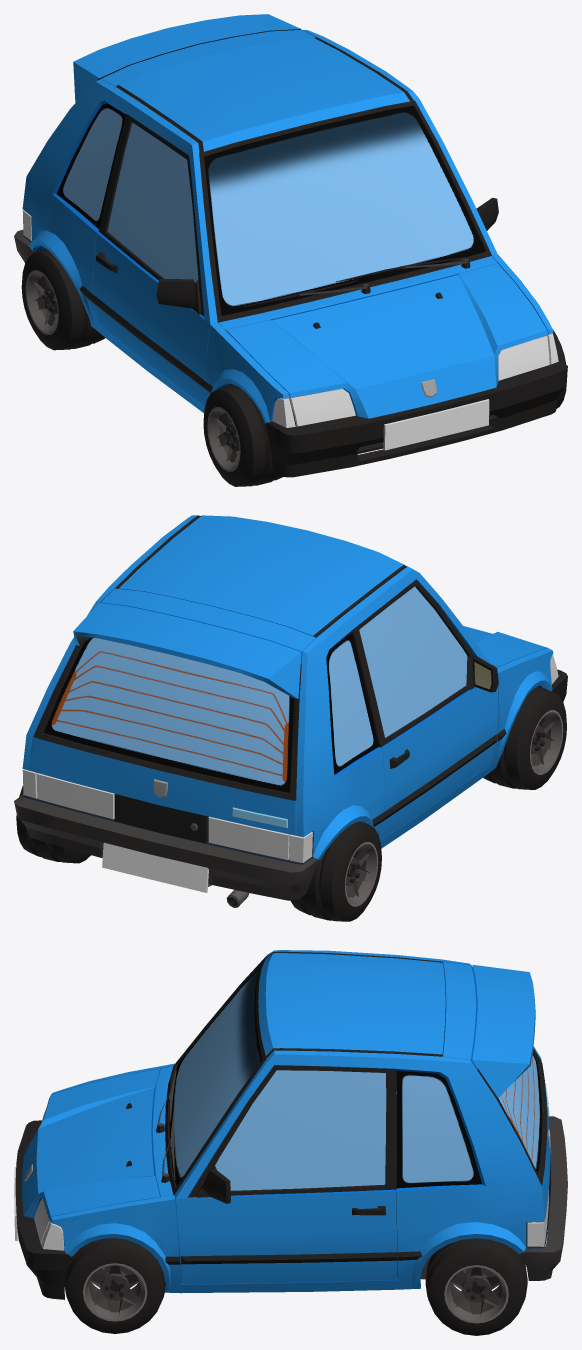
The model's file is carrinho.fbx.
3 views of the same model, one above another, from view 1: azimuth 30°, elevation 25°; view 2: azimuth 150°, elevation 25°; view 3: azimuth 270°, elevation 25° (orthographic). The views are drawn at different scales.
Visible parts, largest first — view 1: Body, Bonet, Doors_R, Bumper_F, Bootlid, Wheel_FR, Wheel_RR, Fender_FR, Headlight_FR, Headlight_FL, WindshieldWipers, Fender_FL; view 2: Bootlid, Body, Doors_R, Bumper_R, Wheel_RR, Wheel_FR, Fender_FR, Lights_RR, Lights_RL, Bonet, Wheel_RL, Assymetry_1; view 3: Body, Doors_L, Bonet, Bootlid, Wheel_RL, Wheel_FL, Fender_FL, Bumper_F, Bumper_R, WindshieldWipers, Lights_RL, TurnSignal_FL.
Part boxes in pixels (x1,y1,x2,y2): Body: (22, 30, 497, 413); Bonet: (226, 263, 548, 418); Doors_R: (92, 114, 210, 406); Bumper_F: (265, 358, 567, 477); Bootlid: (73, 14, 315, 102); Wheel_FR: (203, 383, 295, 486); Wheel_RR: (21, 248, 105, 350); Fender_FR: (204, 322, 289, 423); Headlight_FR: (290, 388, 355, 426); Headlight_FL: (498, 335, 549, 380); WindshieldWipers: (243, 257, 470, 307); Fender_FL: (492, 254, 553, 334); Bootlid: (29, 588, 315, 843); Body: (22, 515, 497, 864); Doors_R: (352, 580, 498, 840); Bumper_R: (14, 794, 318, 900); Wheel_RR: (290, 821, 381, 921); Wheel_FR: (483, 686, 566, 789); Fender_FR: (487, 648, 553, 774); Lights_RR: (208, 816, 312, 862); Lights_RL: (22, 769, 114, 819); Bonet: (463, 626, 547, 667); Wheel_RL: (16, 785, 90, 863); Assymetry_1: (190, 807, 287, 830); Body: (152, 950, 549, 1292); Doors_L: (176, 1065, 397, 1284); Bonet: (22, 1068, 160, 1219); Bootlid: (443, 962, 550, 1217); Wheel_RL: (425, 1238, 527, 1335); Wheel_FL: (64, 1238, 165, 1333); Fender_FL: (49, 1195, 182, 1293); Bumper_F: (14, 1120, 71, 1299); Bumper_R: (519, 1116, 567, 1280); WindshieldWipers: (156, 1070, 176, 1182); Lights_RL: (527, 1190, 548, 1246); TurnSignal_FL: (41, 1222, 64, 1250).
Size of the model in its own units: 114 by 88.87 by 165.
